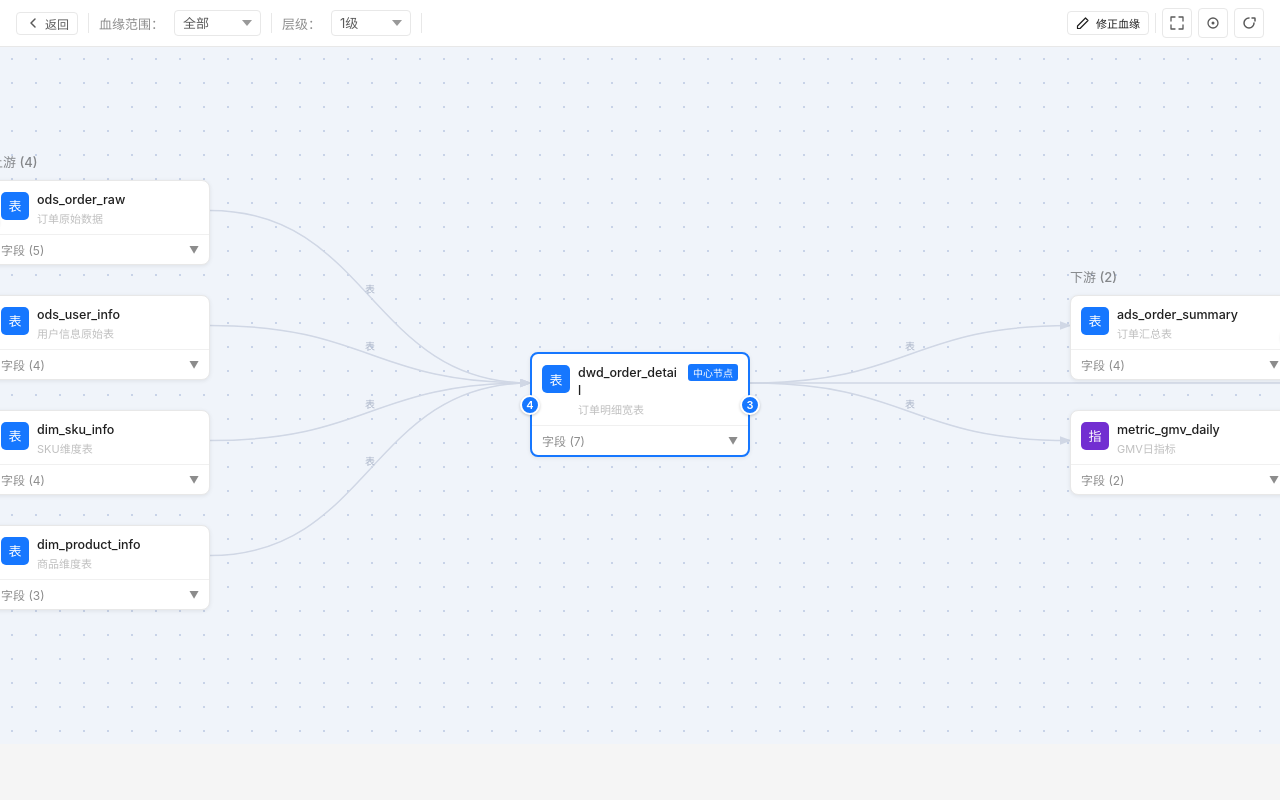
Scenario: LineagePage lineage edit approval flow › keeps target assets and field mapping selectable after changing target type
Click the button "修正血缘": (1108, 23) [1067,11,1149,35]
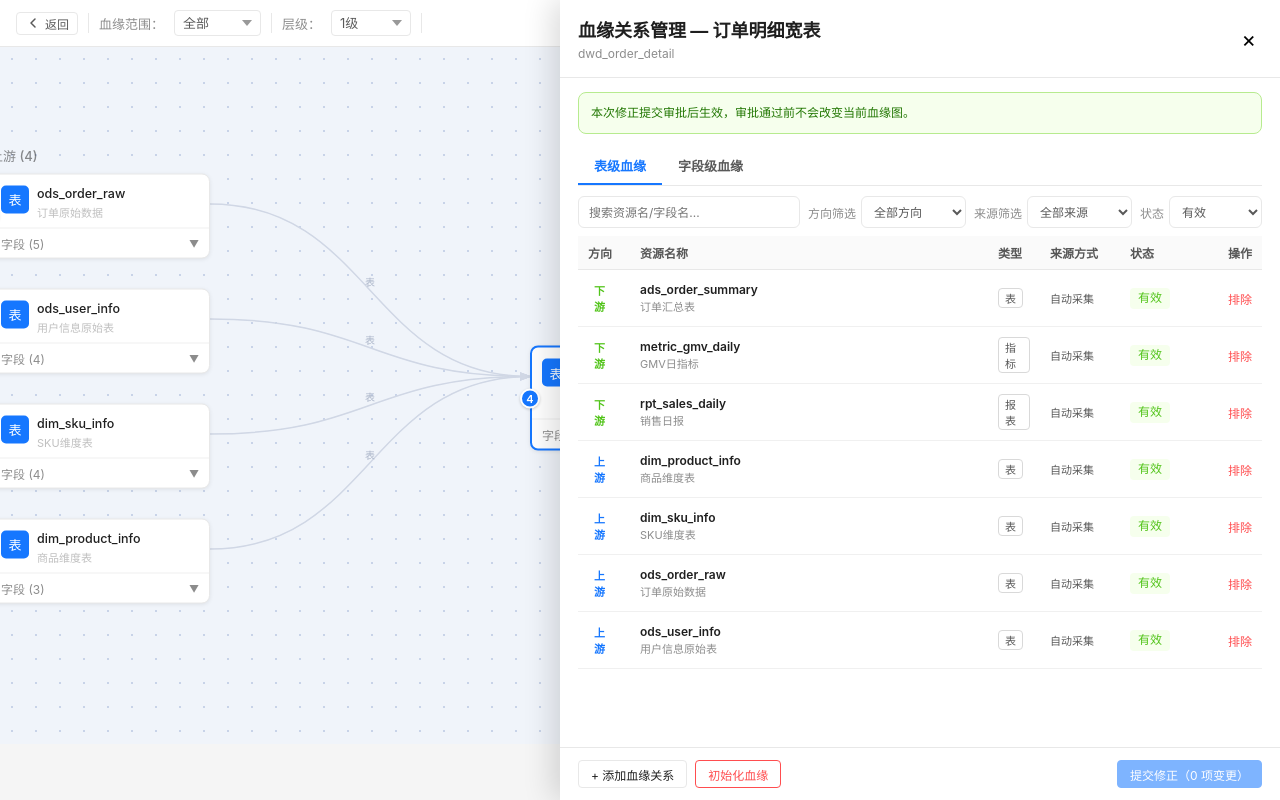
Click the button "+ 添加血缘关系": (633, 774) [578,760,687,788]
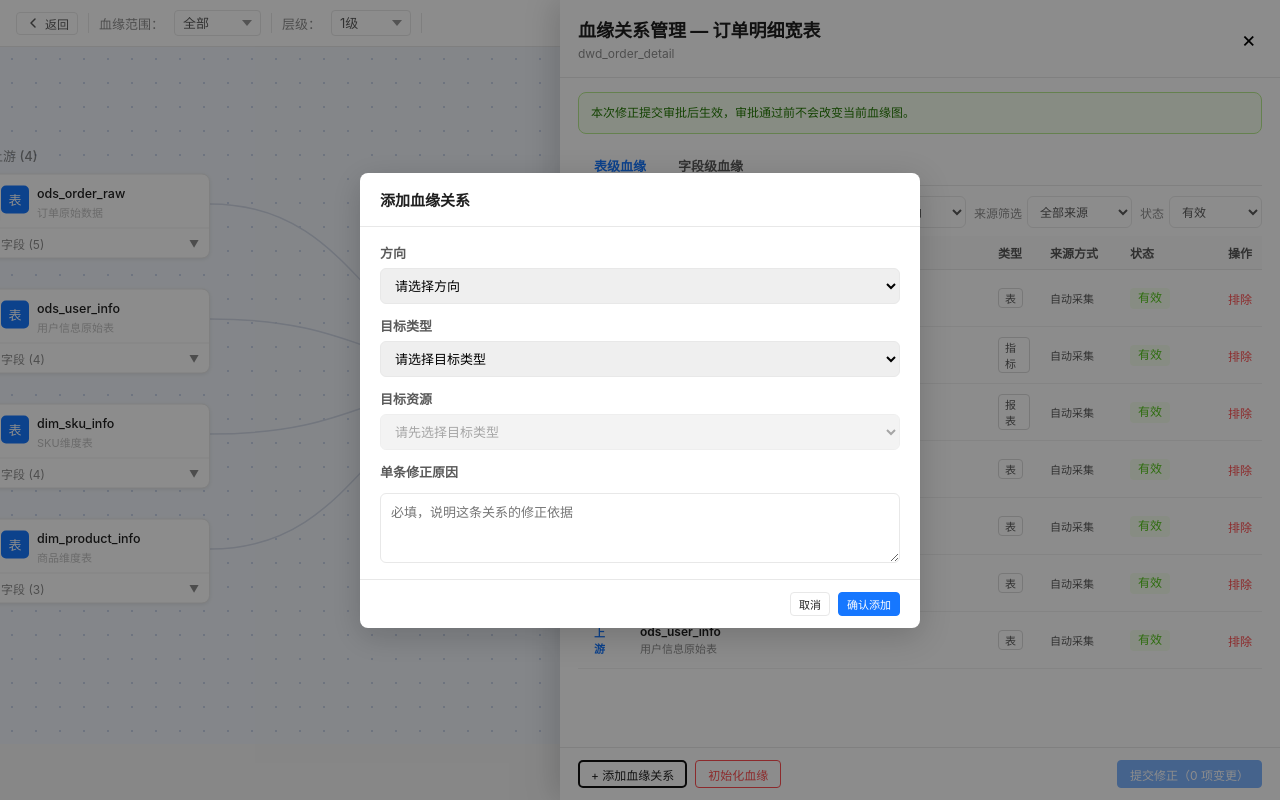
Expected: the dropdown labelled "方向" shows "请选择方向"
Expected: the dropdown labelled "目标类型" shows "请选择目标类型", [380,340,900,376]
Expected: the dropdown labelled "目标资源" shows "请先选择目标类型", [380,414,900,450]
Select "添加上游" in the dropdown labelled "方向": (640, 286) [380,268,900,304]
Select "视图" in the dropdown labelled "目标类型": (640, 358) [380,340,900,376]
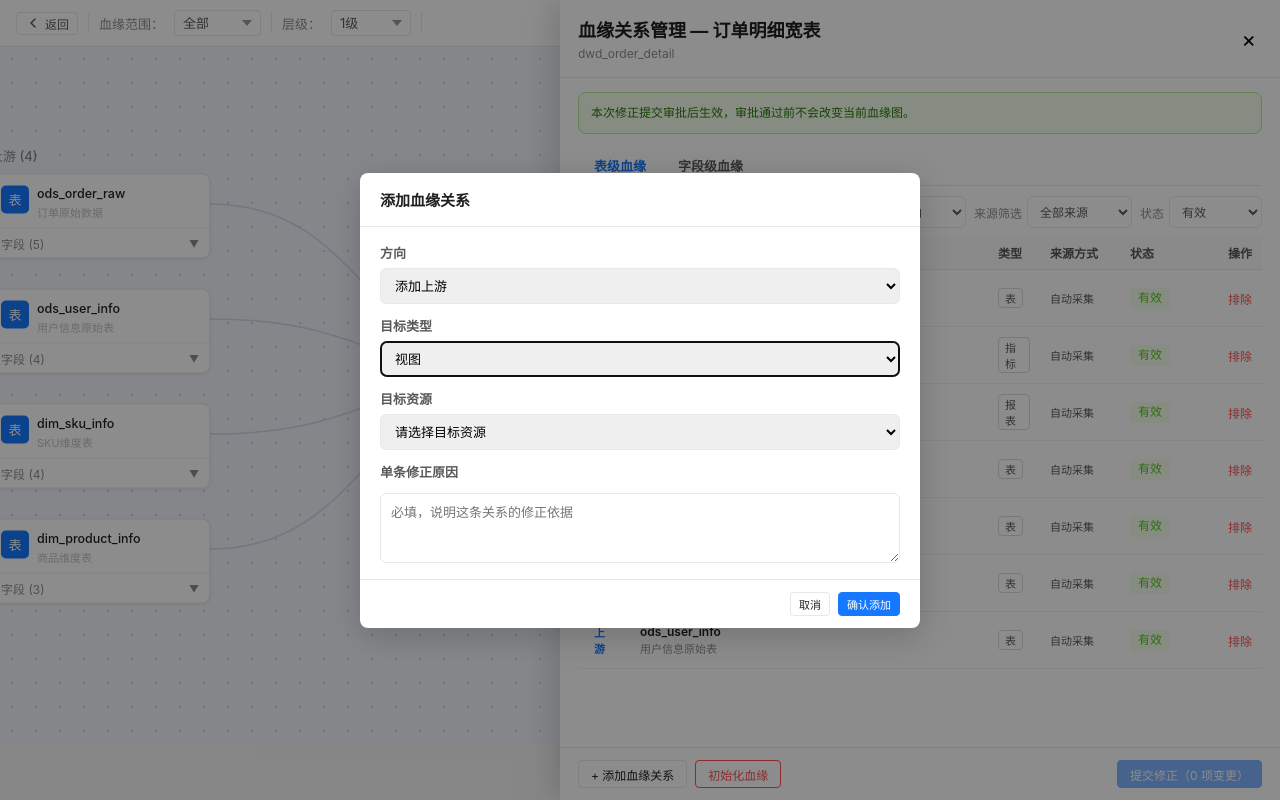
Expected: the dropdown labelled "目标资源" shows "请选择目标资源"
Select "订单主题视图（dws_order_subject_view）" in the dropdown labelled "目标资源": (640, 432) [380,414,900,450]
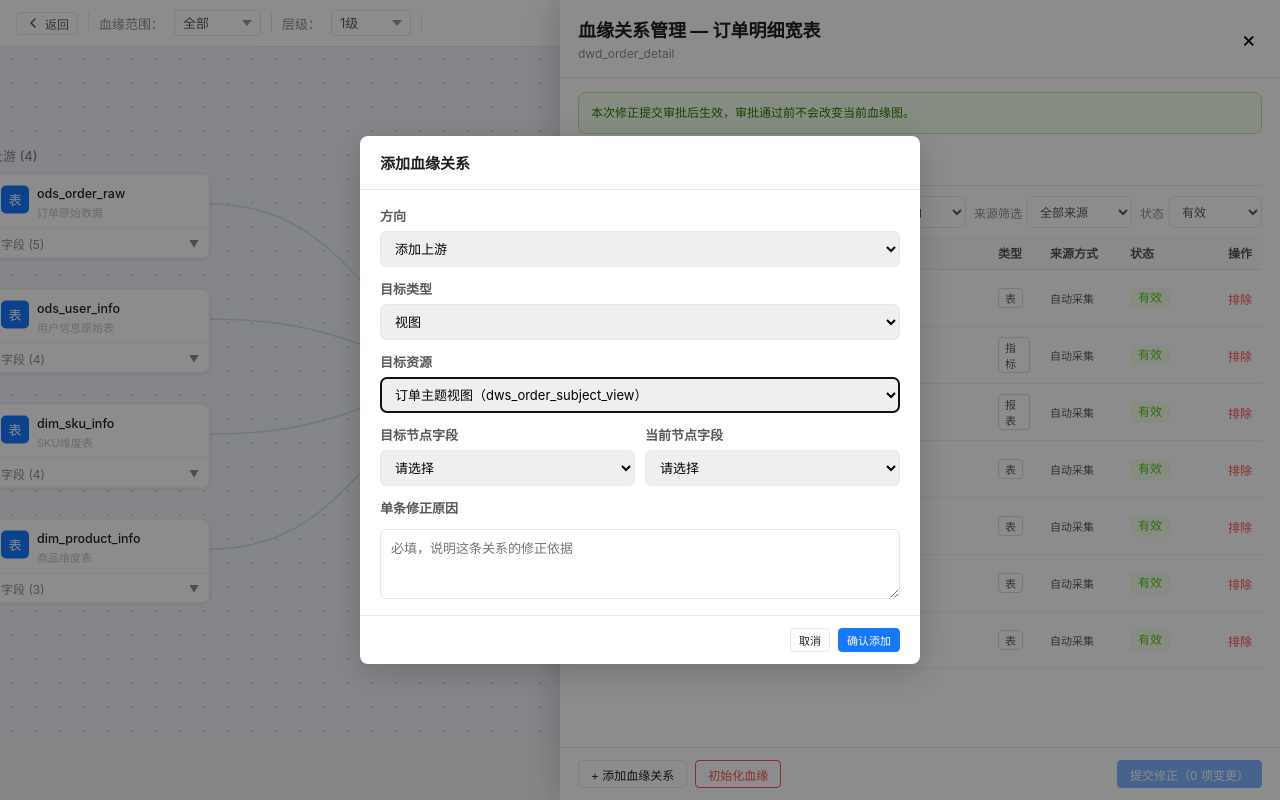
Select "表" in the dropdown labelled "目标类型": (640, 322) [380,304,900,340]
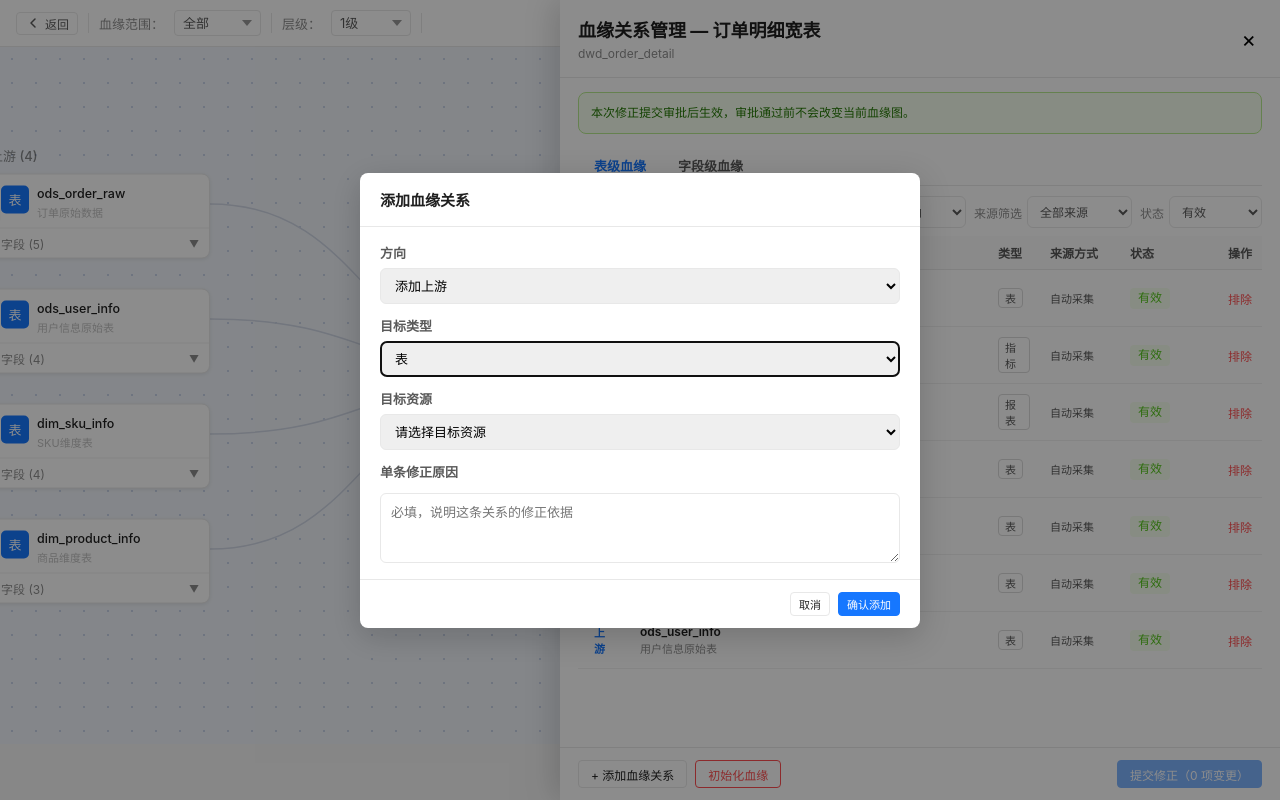
Select "订单原始数据（ods_order_raw）" in the dropdown labelled "目标资源": (640, 432) [380,414,900,450]
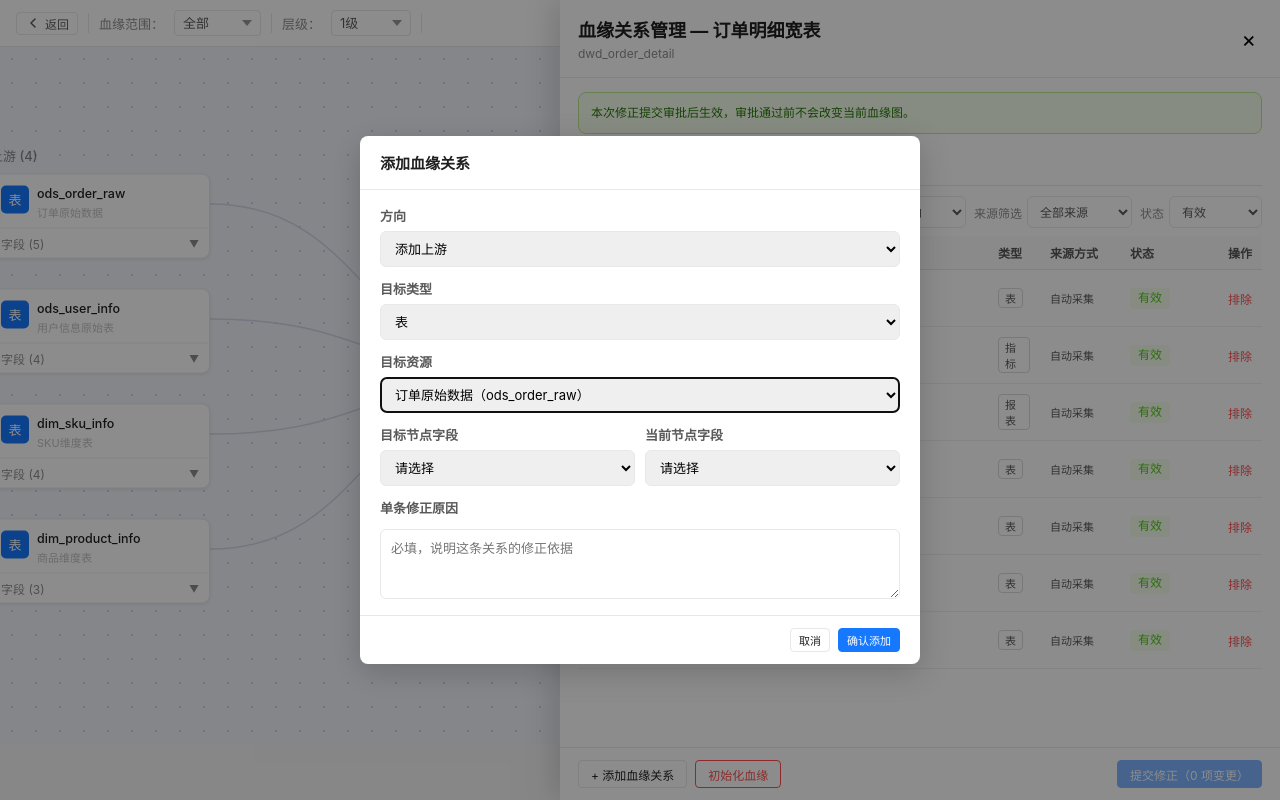
Expected: the dropdown labelled "目标资源" is enabled, [380,377,900,413]
Expected: the dropdown labelled "目标节点字段" is enabled, [380,450,635,486]
Expected: the dropdown labelled "当前节点字段" is enabled, [645,450,900,486]
